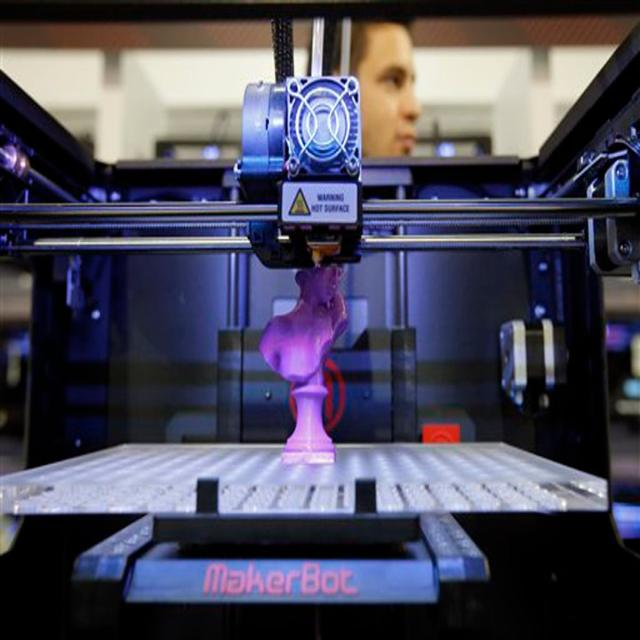Without deffect: (248, 258, 375, 477)
